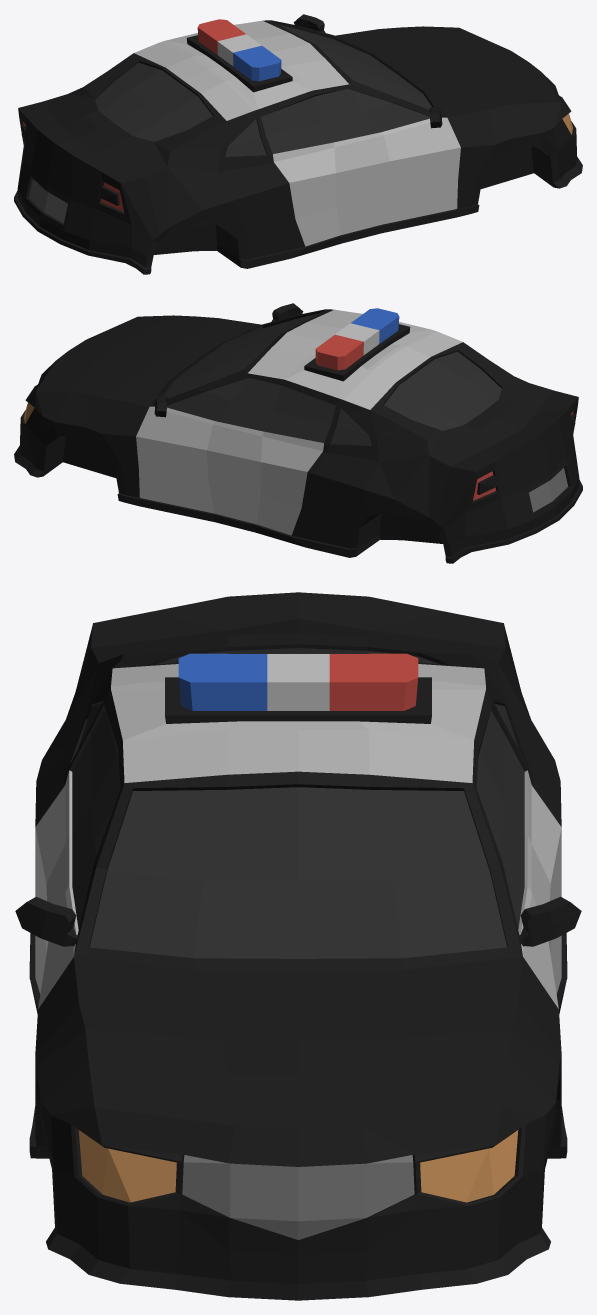
Rendered from police.glb.
3 views of the same model, one above another, from view 1: azimuth 30°, elevation 25°; view 2: azimuth 150°, elevation 25°; view 3: azimuth 270°, elevation 25° (orthographic). The views are drawn at different scales.
Parts seen in each view (by area): view 1: police_Trim, police_Body, police_Glass, police_SirenA, police_Tail, police_SirenB; view 2: police_Trim, police_Body, police_Glass, police_Tail, police_SirenA, police_SirenB; view 3: police_Trim, police_Glass, police_Body, police_Head, police_Tail, police_SirenA, police_SirenB.
Part boxes in pixels (x1,y1,x2,y2): police_Trim: [14, 14, 582, 274]; police_Body: [134, 20, 460, 246]; police_Glass: [95, 24, 431, 156]; police_SirenA: [233, 45, 281, 81]; police_Tail: [23, 19, 245, 211]; police_SirenB: [217, 34, 261, 65]; police_Trim: [14, 303, 582, 563]; police_Body: [136, 309, 462, 535]; police_Glass: [165, 313, 501, 445]; police_Tail: [315, 334, 573, 500]; police_SirenA: [351, 308, 399, 343]; police_SirenB: [335, 323, 379, 354]; police_Trim: [15, 592, 581, 1300]; police_Glass: [72, 648, 524, 958]; police_Body: [35, 664, 561, 1008]; police_Head: [78, 1130, 518, 1202]; police_Tail: [329, 653, 418, 710]; police_SirenA: [178, 653, 267, 710]; police_SirenB: [267, 654, 329, 710].
Size of the model in its own units: 4.37 by 1.78 by 2.08.
